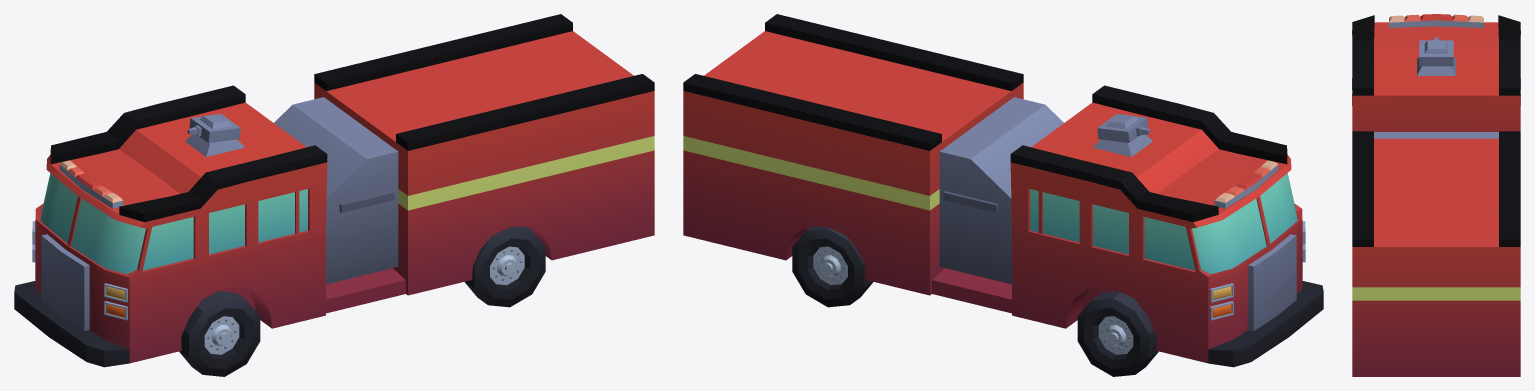
Rendered from Truck.fbx.
The picture shows the model from 3 angles, left to right: view 1: azimuth 30°, elevation 25°; view 2: azimuth 150°, elevation 25°; view 3: azimuth 270°, elevation 25°; orthographic projection. The views are drawn at different scales.
Visible parts, largest first — view 1: Truck; view 2: Truck; view 3: Truck.
Part boxes in pixels (bbox=[...]): Truck: bbox=[14, 14, 654, 376]; Truck: bbox=[683, 14, 1323, 376]; Truck: bbox=[1352, 14, 1520, 376].
Bounding box in the file's own units: 1097 × 319 × 407.
